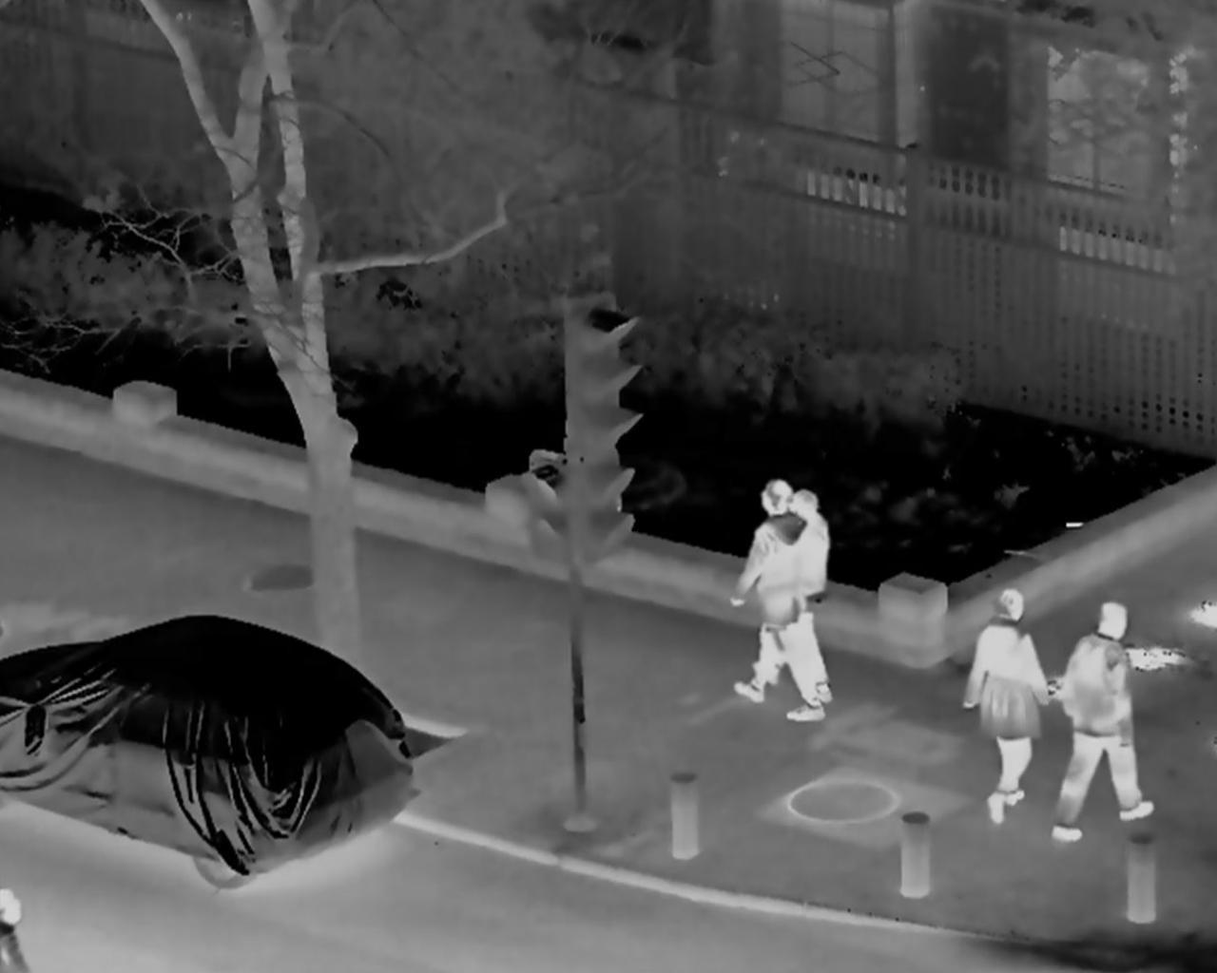person: (1050, 602, 1154, 844), (736, 483, 817, 723), (957, 589, 1037, 820), (751, 488, 835, 703)
